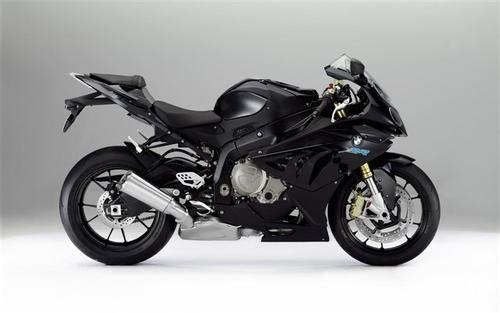motor: (50, 45, 450, 269)
